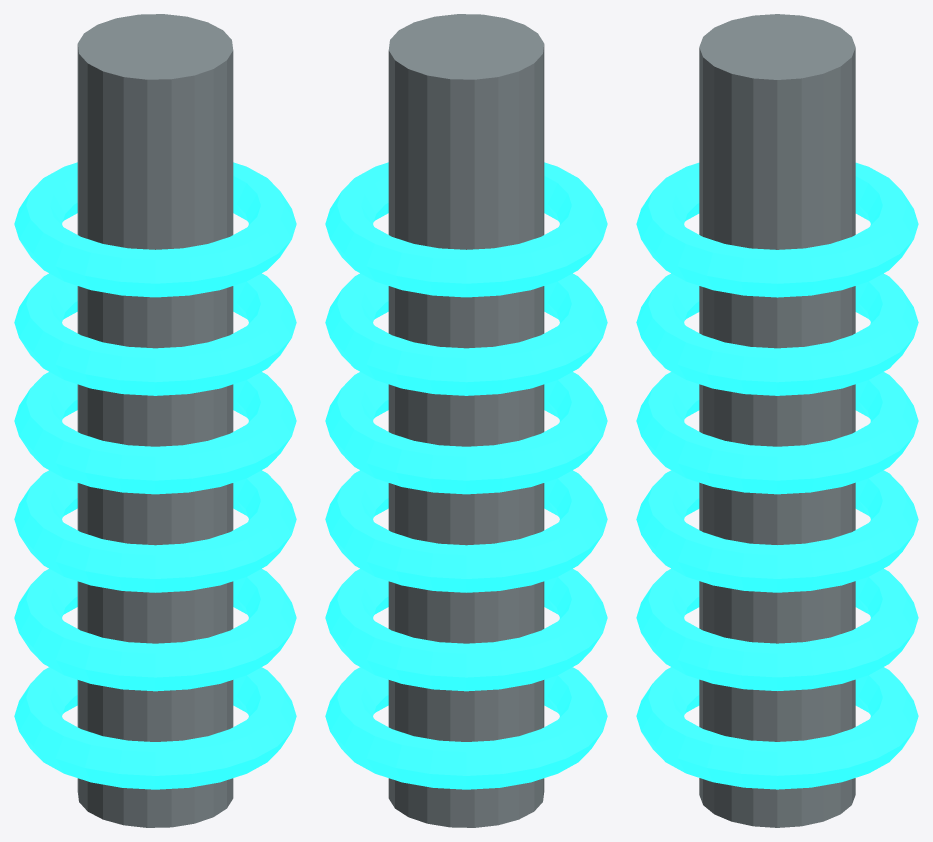
The model's file is SM_AlienMaterialHarvester_Motion.fbx.
The picture shows the model from 3 angles, left to right: view 1: azimuth 30°, elevation 25°; view 2: azimuth 150°, elevation 25°; view 3: azimuth 270°, elevation 25°; orthographic projection.
Visible parts, largest first — view 1: SM_AlienMaterialHarvester_Motion_Local; view 2: SM_AlienMaterialHarvester_Motion_Local; view 3: SM_AlienMaterialHarvester_Motion_Local.
Part boxes in pixels (left/top/right/bottom): SM_AlienMaterialHarvester_Motion_Local: left=14, top=14, right=296, bottom=827; SM_AlienMaterialHarvester_Motion_Local: left=325, top=14, right=607, bottom=827; SM_AlienMaterialHarvester_Motion_Local: left=636, top=14, right=918, bottom=827.
Size of the model in its own units: 65 by 65 by 190.
